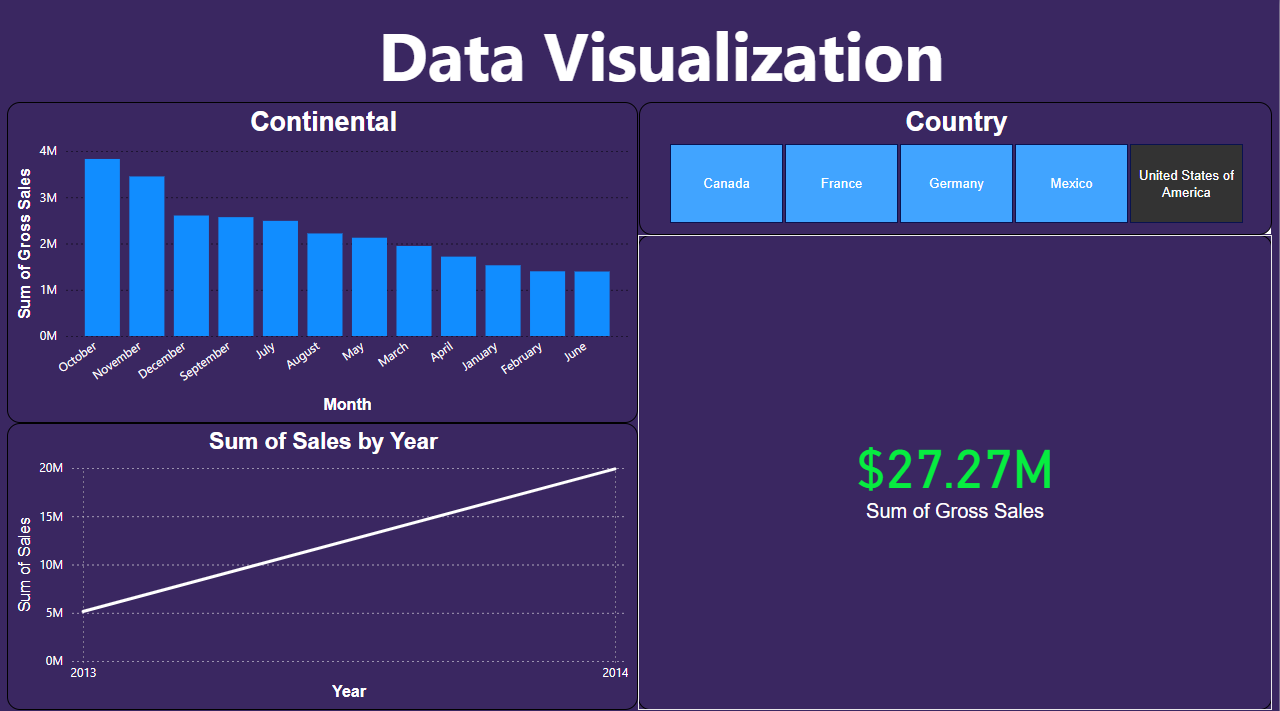

Layout of this report page (visuals, bound fields, positions):
{"tool":"powerbi","page":{"name":"Page 1","canvas":[1280,720],"ordinal":0},"visuals":[{"type":"shape","title":"Hey","box":[203.9,7.1,916.8,97.5],"z":0},{"type":"columnChart","title":"Continental","fields":{"Category":["financials.Month Name"],"Y":["Sum(financials.Gross Sales)"]},"box":[8,105,631,321],"z":1000},{"type":"card","fields":{"Values":["Sum(financials.Gross Sales)"]},"box":[639,238,634,475],"z":2000},{"type":"slicer","title":"Country","fields":{"Values":["financials.Country"]},"box":[640,105,633,133],"z":3000},{"type":"lineChart","fields":{"Y":["Sum(financials.Sales)"],"Category":["financials.Year"]},"box":[8,426,631,287],"z":4000}]}

Visuals, with their boxes in screenshot pixels (x1, y1, x2, y2), scaled from the page's 1280x720 canvas onto the 1280x711 screenshot:
"Hey" shape: (left=204, top=7, right=1121, bottom=103)
"Continental" columnChart: (left=8, top=104, right=639, bottom=421)
card - Sum(financials.Gross Sales): (left=639, top=235, right=1273, bottom=704)
"Country" slicer: (left=640, top=104, right=1273, bottom=235)
lineChart - Sum(financials.Sales) x financials.Year: (left=8, top=421, right=639, bottom=704)
